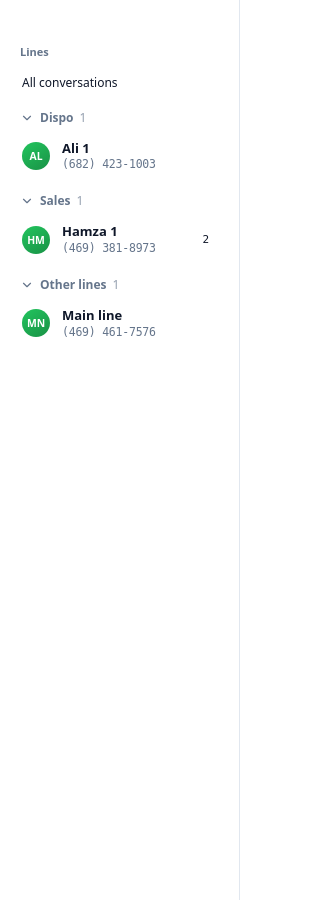
InboxColumn: department folds (Phase 1b) › folds a department and shows its unread total while folded
The width and height of the screenshot is (320, 900).
Expected: the button "HM Hamza 1 (469) 381-8973 2" is shown, x1=12 y1=214 x2=227 y2=266
Click the button "Sales 1": (120,199) x1=12 y1=184 x2=227 y2=214
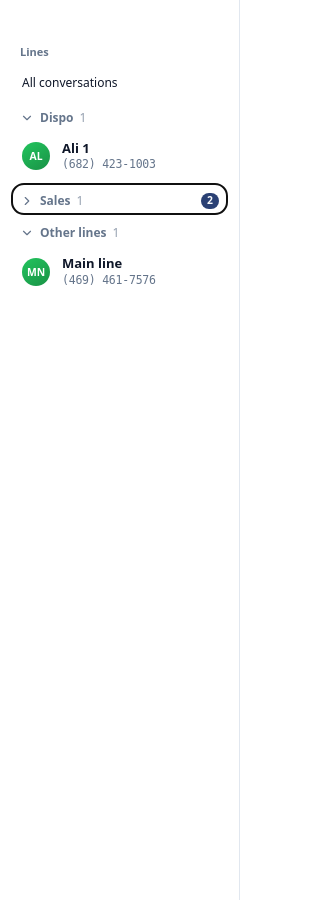
Expected: the text named "2 unread in Sales" is shown, x1=201 y1=193 x2=219 y2=209
Expected: the button "Sales 1 2" is collapsed, x1=12 y1=184 x2=227 y2=214
Expected: the button "Hamza 1" is gone
